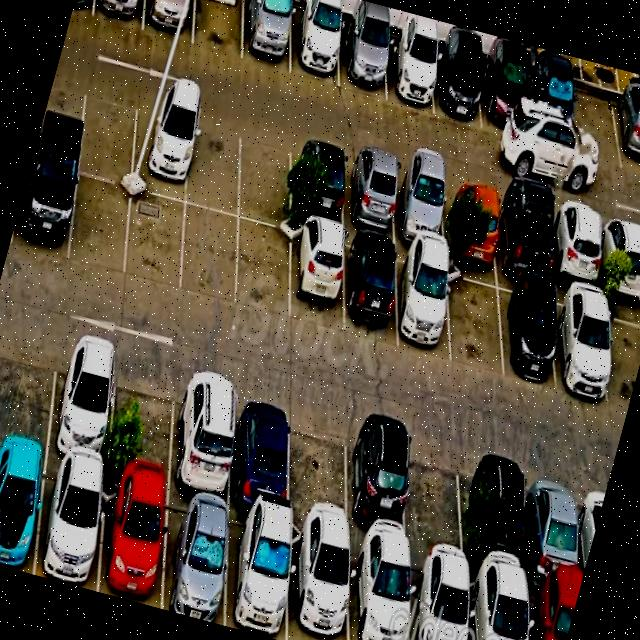empty: (108, 349, 177, 488), (289, 399, 348, 536), (0, 318, 59, 452), (410, 427, 465, 568), (69, 173, 132, 276), (78, 79, 138, 185), (447, 262, 503, 375), (125, 189, 185, 293), (180, 204, 238, 305), (185, 109, 240, 215), (238, 122, 291, 231), (236, 220, 289, 320), (569, 82, 621, 168), (606, 296, 640, 412), (192, 0, 244, 59)
occupied: (47, 331, 117, 471), (34, 457, 104, 591), (161, 490, 228, 626), (170, 366, 236, 504), (99, 474, 166, 609), (224, 508, 289, 640), (349, 413, 410, 552), (230, 382, 292, 517), (11, 155, 78, 262), (287, 523, 348, 640), (529, 458, 581, 594), (477, 444, 527, 581), (131, 94, 193, 202), (553, 284, 610, 401), (497, 274, 555, 384), (396, 247, 450, 361), (343, 233, 398, 344), (290, 220, 344, 332), (0, 446, 47, 574), (350, 542, 409, 640), (496, 188, 551, 282), (410, 554, 468, 640), (292, 136, 345, 227), (446, 175, 497, 266), (394, 161, 445, 249), (346, 149, 396, 238), (552, 201, 601, 289), (527, 67, 575, 155), (290, 5, 341, 86), (469, 569, 527, 640), (481, 56, 528, 141), (432, 47, 481, 128), (385, 34, 433, 113), (242, 0, 291, 73), (339, 23, 385, 98), (601, 212, 640, 298), (527, 582, 578, 640), (612, 92, 640, 174), (142, 0, 195, 43), (92, 0, 145, 30)
